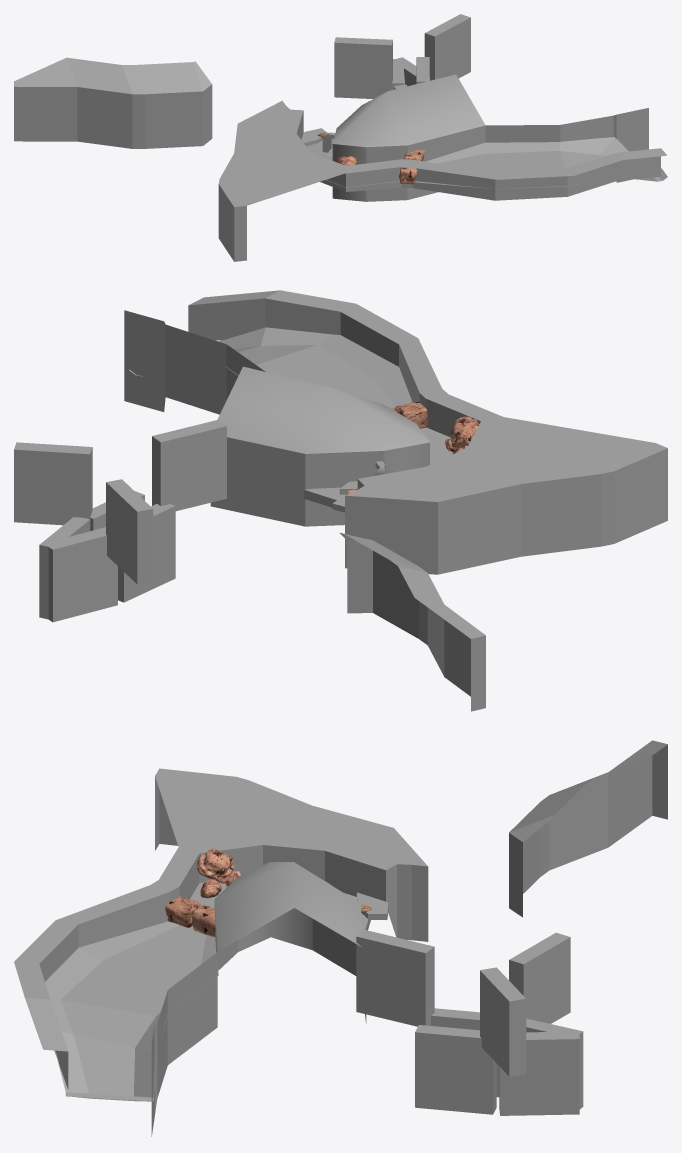
File: env_level02_canyonBossV3.fbx
The picture shows the model from 3 angles, top to bottom: view 1: azimuth 30°, elevation 25°; view 2: azimuth 150°, elevation 25°; view 3: azimuth 270°, elevation 25°; orthographic projection. The views are drawn at different scales.
Parts seen in each view (by area): view 1: pCube62, pCube46, pCube63, pCube57, pCube25, pCube47; view 2: pCube62, pCube63, pCube46, pCube57, pCube47, pCube52, pCube50, pCube25, pCube40, pCube51, rockwall_c010; view 3: pCube62, pCube57, pCube63, pCube46, pCube52, pCube41, pCube51, pCube25, pCube47, pCube40, rockwall_c010, pCube50 (+3 smaller).
Boxes of the visible parts, left/top/right/bottom form: pCube62: left=218, top=100, right=667, bottom=261; pCube46: left=14, top=57, right=212, bottom=148; pCube63: left=332, top=74, right=648, bottom=201; pCube57: left=306, top=137, right=667, bottom=189; pCube25: left=334, top=37, right=392, bottom=98; pCube47: left=424, top=14, right=470, bottom=80; pCube62: left=188, top=290, right=667, bottom=574; pCube63: left=124, top=310, right=429, bottom=526; pCube46: left=339, top=532, right=485, bottom=711; pCube57: left=129, top=327, right=467, bottom=507; pCube47: left=14, top=442, right=92, bottom=525; pCube52: left=152, top=419, right=226, bottom=511; pCube50: left=44, top=527, right=117, bottom=622; pCube25: left=106, top=479, right=153, bottom=584; pCube40: left=118, top=504, right=175, bottom=602; pCube51: left=39, top=517, right=90, bottom=619; rockwall_c010: left=451, top=416, right=479, bottom=448; pCube62: left=14, top=768, right=428, bottom=1089; pCube57: left=45, top=881, right=370, bottom=1101; pCube63: left=151, top=862, right=366, bottom=1136; pCube46: left=509, top=740, right=667, bottom=917; pCube52: left=356, top=930, right=434, bottom=1026; pCube41: left=415, top=1025, right=496, bottom=1114; pCube51: left=499, top=1031, right=579, bottom=1115; pCube25: left=509, top=932, right=570, bottom=1023; pCube47: left=480, top=967, right=526, bottom=1076; pCube40: left=430, top=1008, right=499, bottom=1097; rockwall_c010: left=196, top=848, right=234, bottom=883; pCube50: left=526, top=1018, right=583, bottom=1109.
Bounding box in the file's own units: 51174 × 13510 × 46292.
